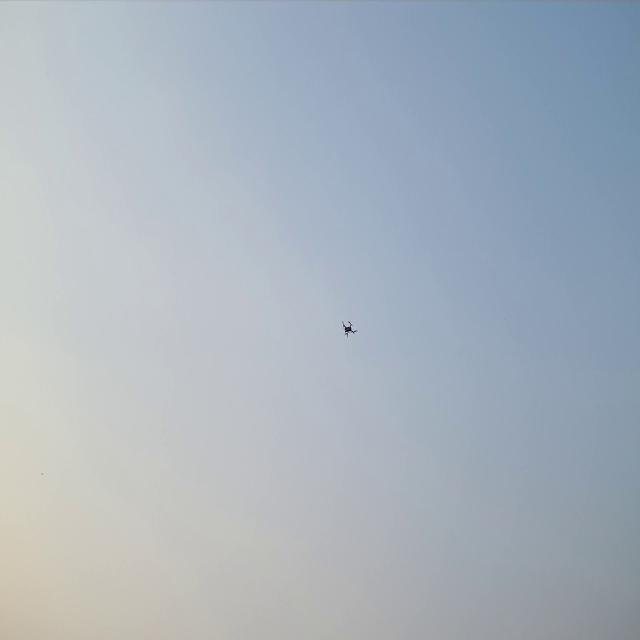UAV: (340, 319, 359, 338)
